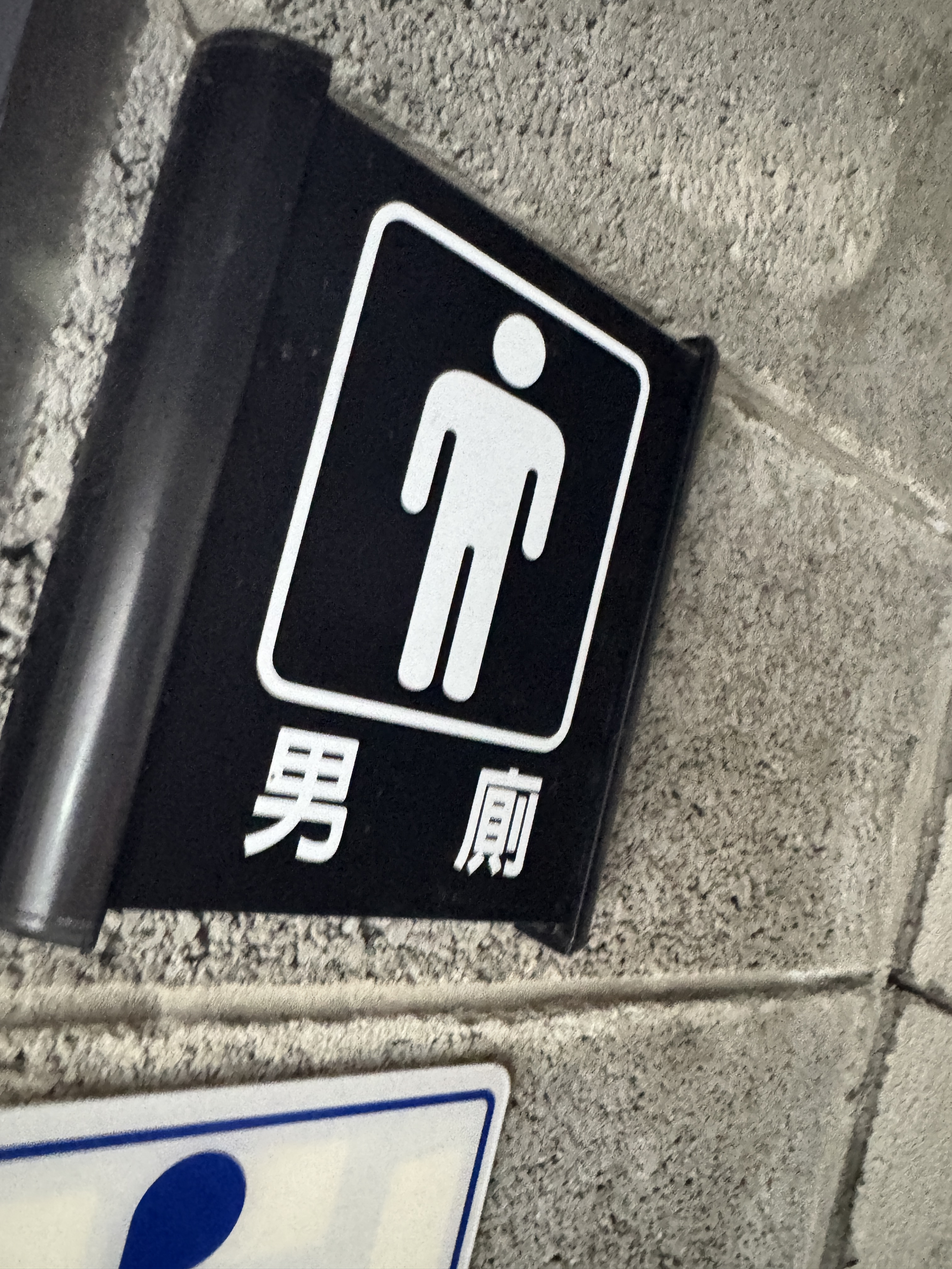toilet_sign: (0, 16, 725, 986), (98, 32, 661, 994)
